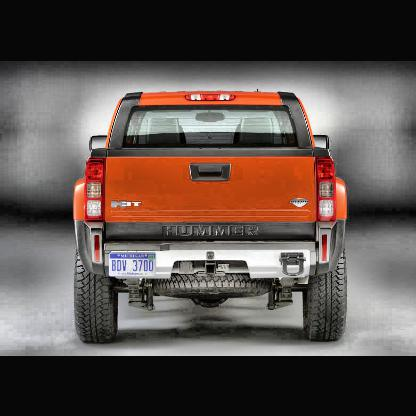HUMMER H3T Crew Cab 2010: (59, 81, 364, 356)
